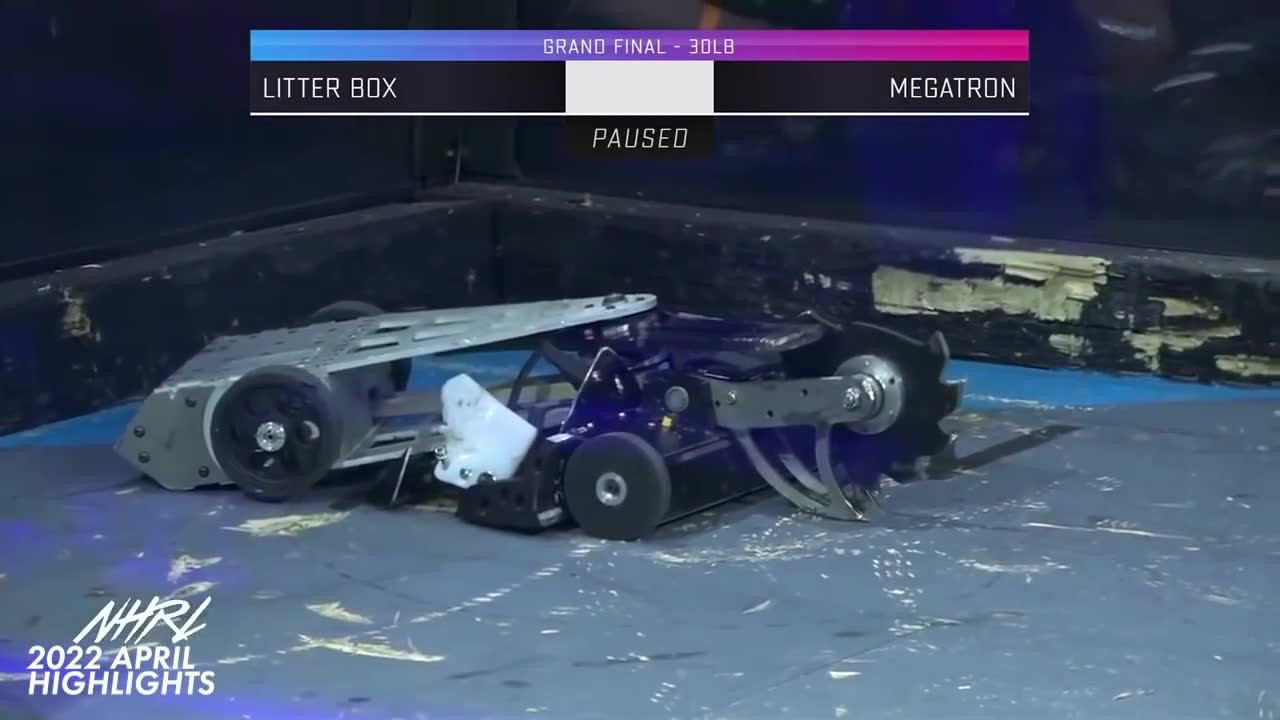combatbot: (114, 287, 658, 507), (567, 313, 965, 542)
